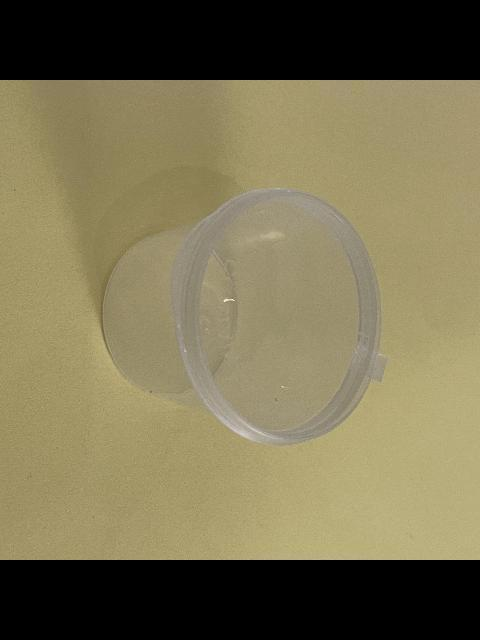plasticcontainer: (99, 187, 389, 446)
